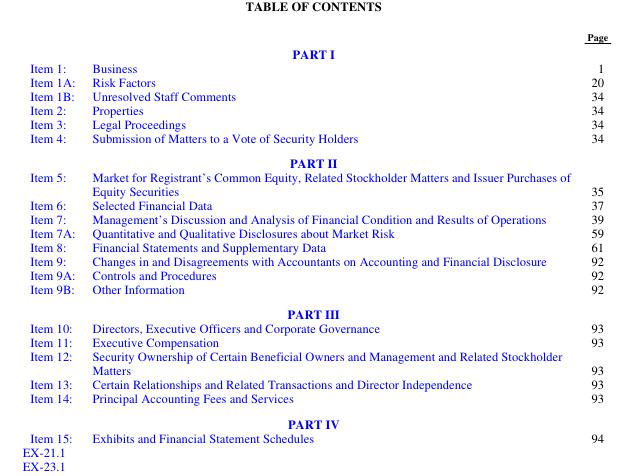table: (29, 29, 607, 445)
table column: (83, 29, 578, 445), (29, 29, 83, 445), (578, 29, 607, 445)
table column header: (29, 29, 607, 43)
table projected row header: (29, 149, 607, 169), (29, 300, 607, 320), (29, 410, 607, 430), (29, 43, 607, 60)
table row: (29, 169, 607, 197), (29, 348, 607, 376), (29, 149, 607, 169), (29, 300, 607, 320), (29, 390, 607, 410), (29, 410, 607, 430), (29, 130, 607, 149), (29, 281, 607, 300), (29, 43, 607, 60), (29, 430, 607, 445), (29, 29, 607, 43), (29, 60, 607, 74), (29, 74, 607, 88), (29, 88, 607, 102), (29, 102, 607, 116), (29, 116, 607, 130), (29, 197, 607, 211), (29, 211, 607, 225), (29, 225, 607, 239), (29, 239, 607, 253), (29, 253, 607, 267), (29, 267, 607, 281), (29, 320, 607, 334), (29, 334, 607, 348), (29, 376, 607, 390)
